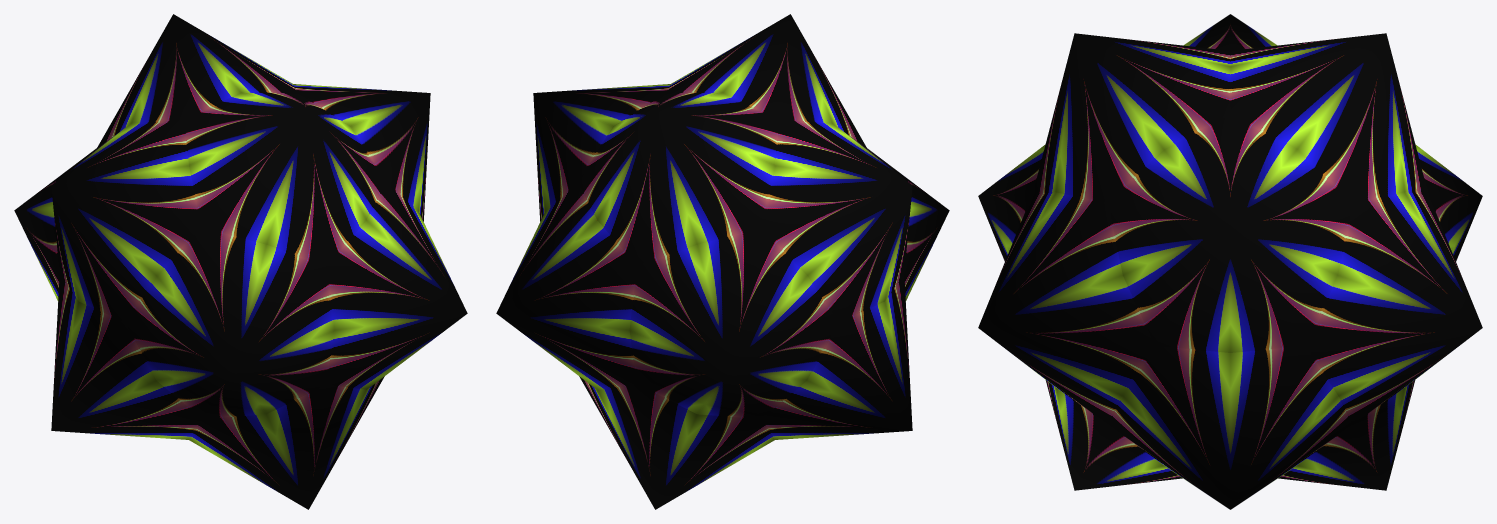
The model's file is 1SmallDodecacronicHexecontahedron.gltf.
3 views of the same model, side by side, from view 1: azimuth 30°, elevation 25°; view 2: azimuth 150°, elevation 25°; view 3: azimuth 270°, elevation 25° (orthographic). The views are drawn at different scales.
Visible parts, largest first — view 1: SmallDodecacronicHexecontahedron9; view 2: SmallDodecacronicHexecontahedron9; view 3: SmallDodecacronicHexecontahedron9.
Boxes of the visible parts, x1,y1,x2,y2 form: SmallDodecacronicHexecontahedron9: (14, 14, 467, 509); SmallDodecacronicHexecontahedron9: (496, 14, 949, 509); SmallDodecacronicHexecontahedron9: (978, 14, 1482, 509).
Bounding box in the file's own units: 5.24 × 5.24 × 5.24.
Materials: 1 (1 with a texture image).
